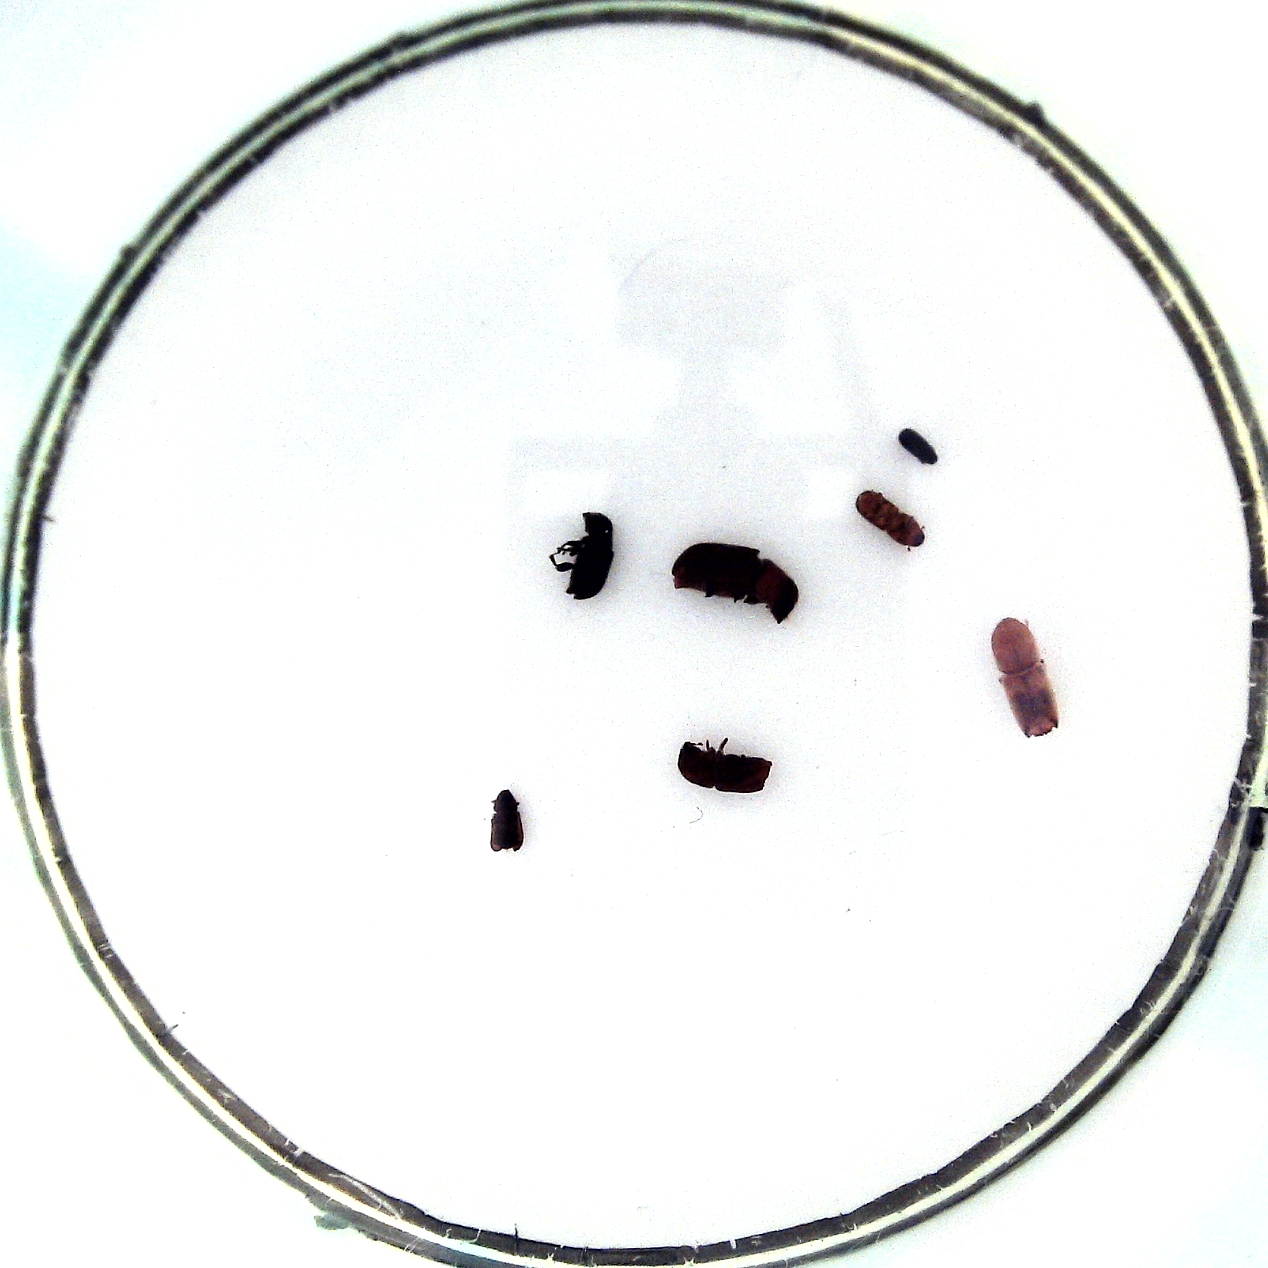Boerner: (992, 617, 1059, 739)
Leconte: (672, 541, 799, 624)
acuminatus: (899, 428, 938, 464)
armandi: (564, 512, 615, 600)
coleoptera: (856, 491, 925, 548), (490, 788, 524, 852)
linnaeus: (678, 741, 772, 793)
